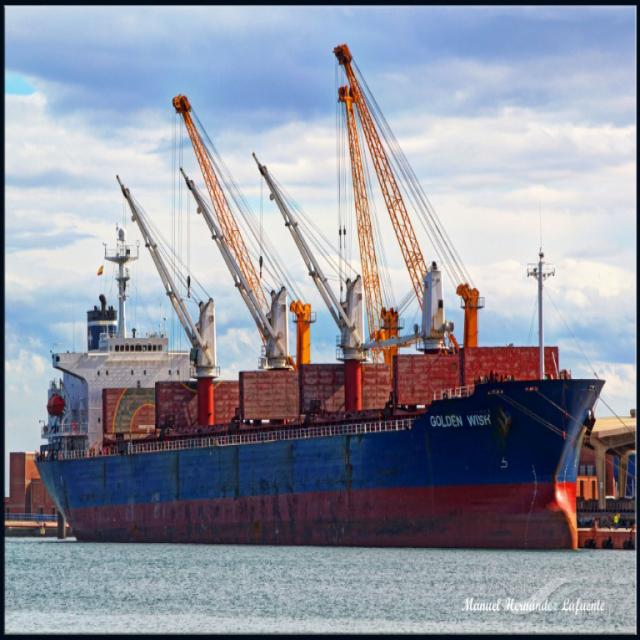OCR: (424, 404, 497, 430)
